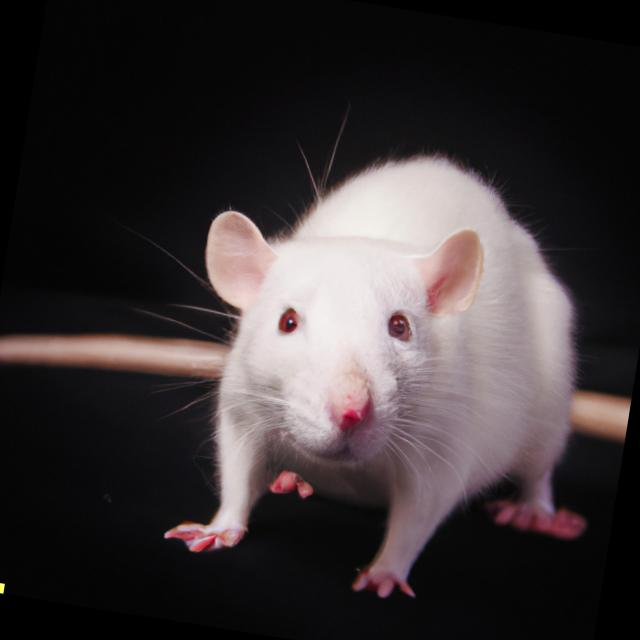rodent: (137, 95, 628, 626)
